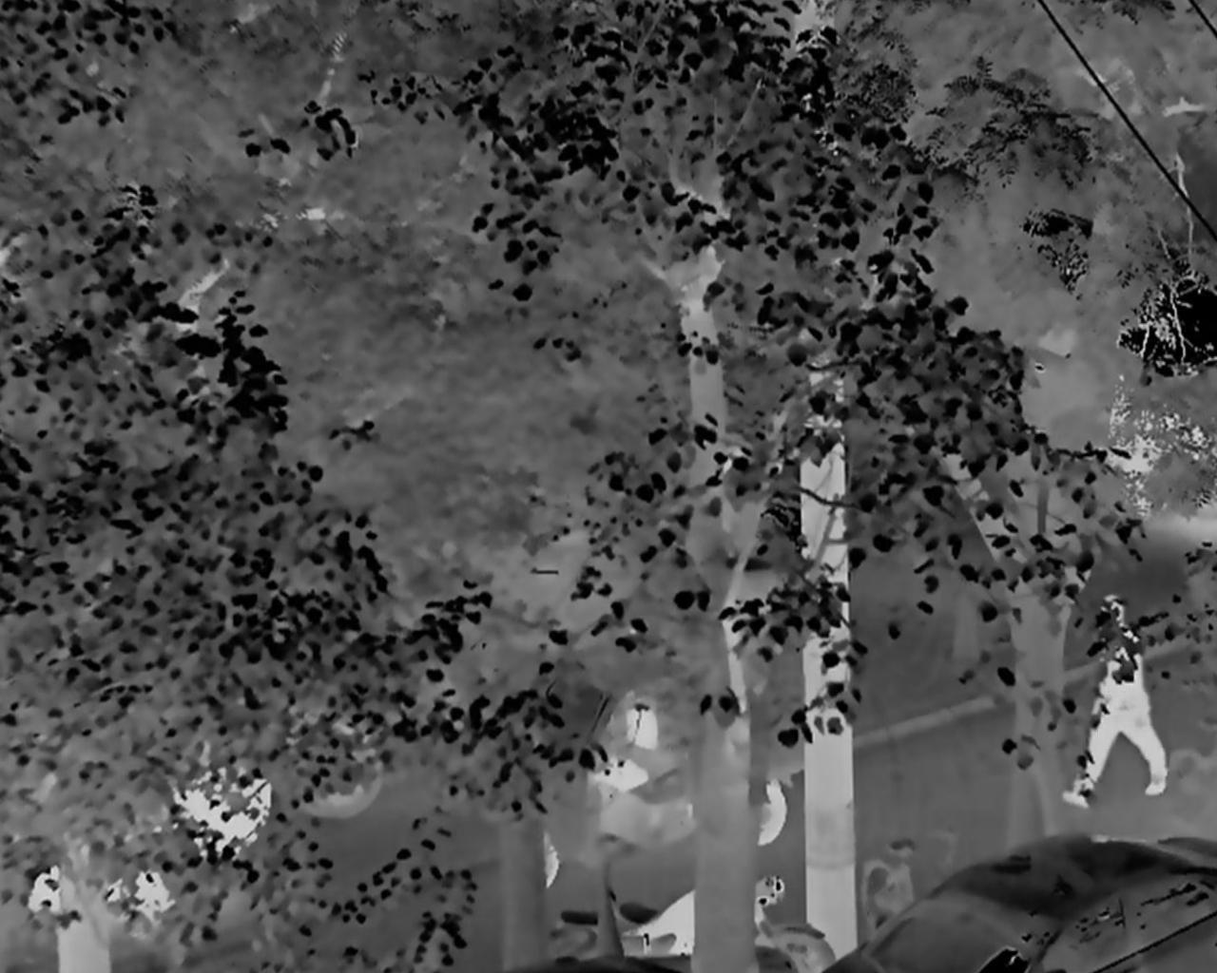person: (1063, 595, 1168, 807)
